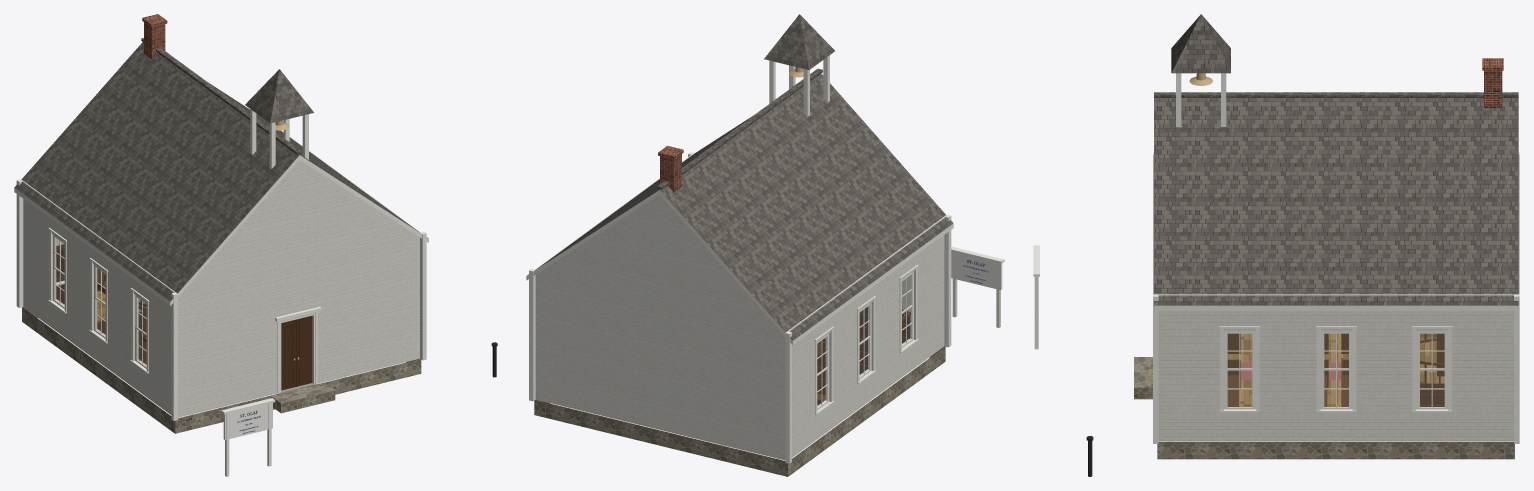
File: P-CHURCH.glb
3 renders of one model, left to right at view 1: azimuth 30°, elevation 25°; view 2: azimuth 150°, elevation 25°; view 3: azimuth 270°, elevation 25°, orthographic. The views are drawn at different scales.
Parts seen in each view (by area): view 1: shell-col, roof-col, belfry-col, windows, sign_board-col, glass, door_front_R__n, door_front_L__p, chimney-col, doorframe, organ-col; view 2: shell-col, roof-col, windows, belfry-col, sign_board-col, glass, pews-col, chimney-col; view 3: roof-col, shell-col, windows, glass, belfry-col, pews-col, floor-col, chimney-col, chancel-col, sign_board-col.
Boxes of the visible parts, <box> form: shell-col: <box>16,130,426,433</box>; roof-col: <box>14,38,428,306</box>; belfry-col: <box>245,69,313,168</box>; windows: <box>48,227,149,373</box>; sign_board-col: <box>221,398,275,476</box>; glass: <box>55,238,145,365</box>; door_front_R__n: <box>296,316,312,386</box>; door_front_L__p: <box>281,319,295,390</box>; chimney-col: <box>142,14,167,58</box>; doorframe: <box>277,311,317,393</box>; organ-col: <box>56,244,105,321</box>; shell-col: <box>529,152,951,476</box>; roof-col: <box>526,68,953,345</box>; windows: <box>814,264,918,414</box>; belfry-col: <box>764,14,834,116</box>; sign_board-col: <box>951,246,1004,327</box>; glass: <box>818,275,911,406</box>; pews-col: <box>817,307,910,405</box>; chimney-col: <box>658,145,683,191</box>; roof-col: <box>1154,92,1518,310</box>; shell-col: <box>1134,152,1519,459</box>; windows: <box>1219,326,1452,412</box>; glass: <box>1228,334,1443,406</box>; belfry-col: <box>1171,14,1230,126</box>; pews-col: <box>1227,333,1444,406</box>; floor-col: <box>1227,333,1436,406</box>; chimney-col: <box>1482,58,1503,108</box>; chancel-col: <box>1420,342,1444,383</box>; sign_board-col: <box>1033,245,1039,349</box>.
Size of what is drawn, in the model's own units: 10.6 by 11.02 by 12.77.
Materials: 22 (13 with a texture image).
